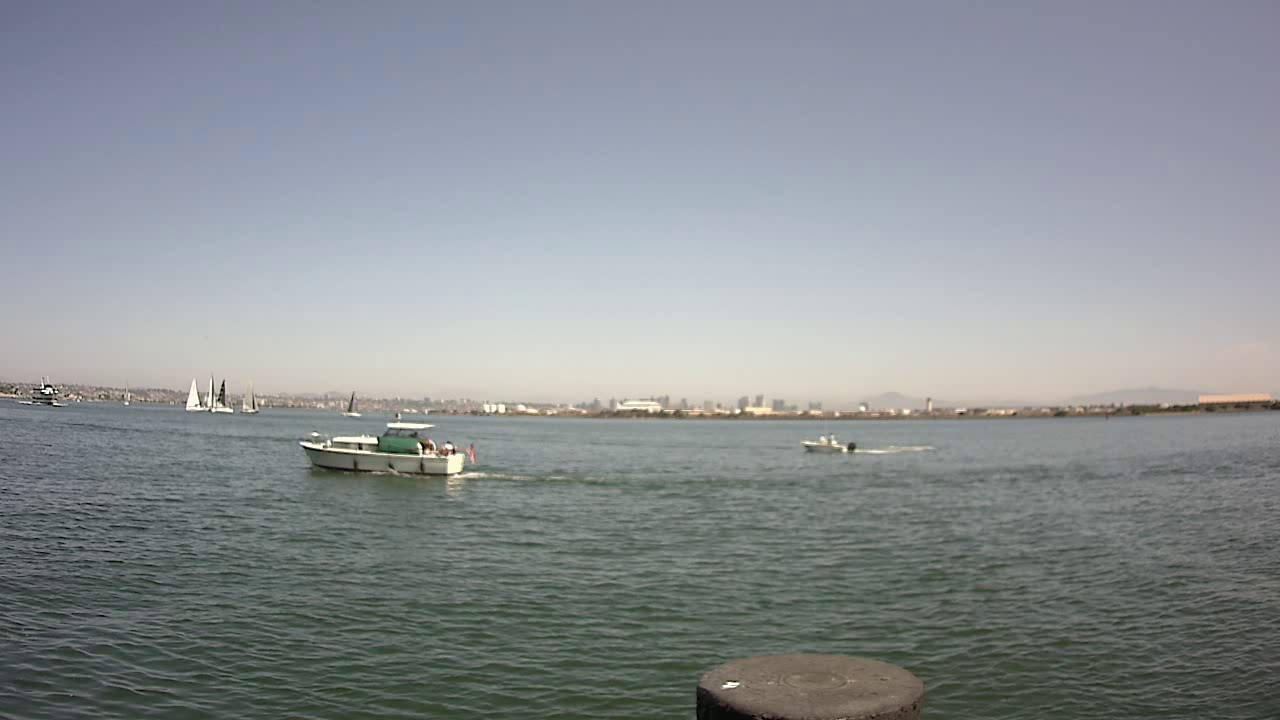target: (793, 423, 864, 462)
